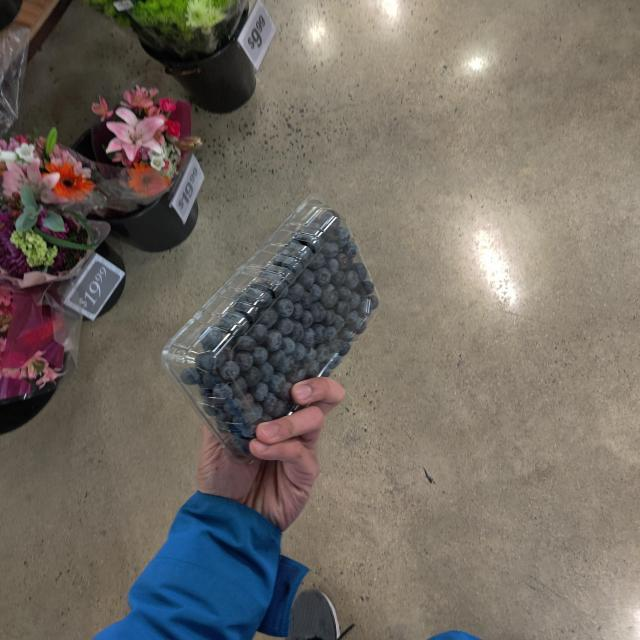Blueberries: (165, 207, 408, 436)
